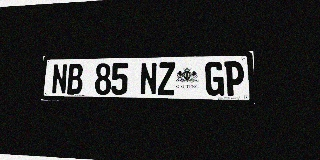5: (111, 63, 128, 95)
8: (95, 63, 111, 95)
B: (67, 63, 83, 95)
G: (205, 61, 224, 96)
N: (140, 62, 157, 95), (51, 64, 68, 94)
P: (224, 61, 244, 96)
Z: (158, 62, 175, 95)
